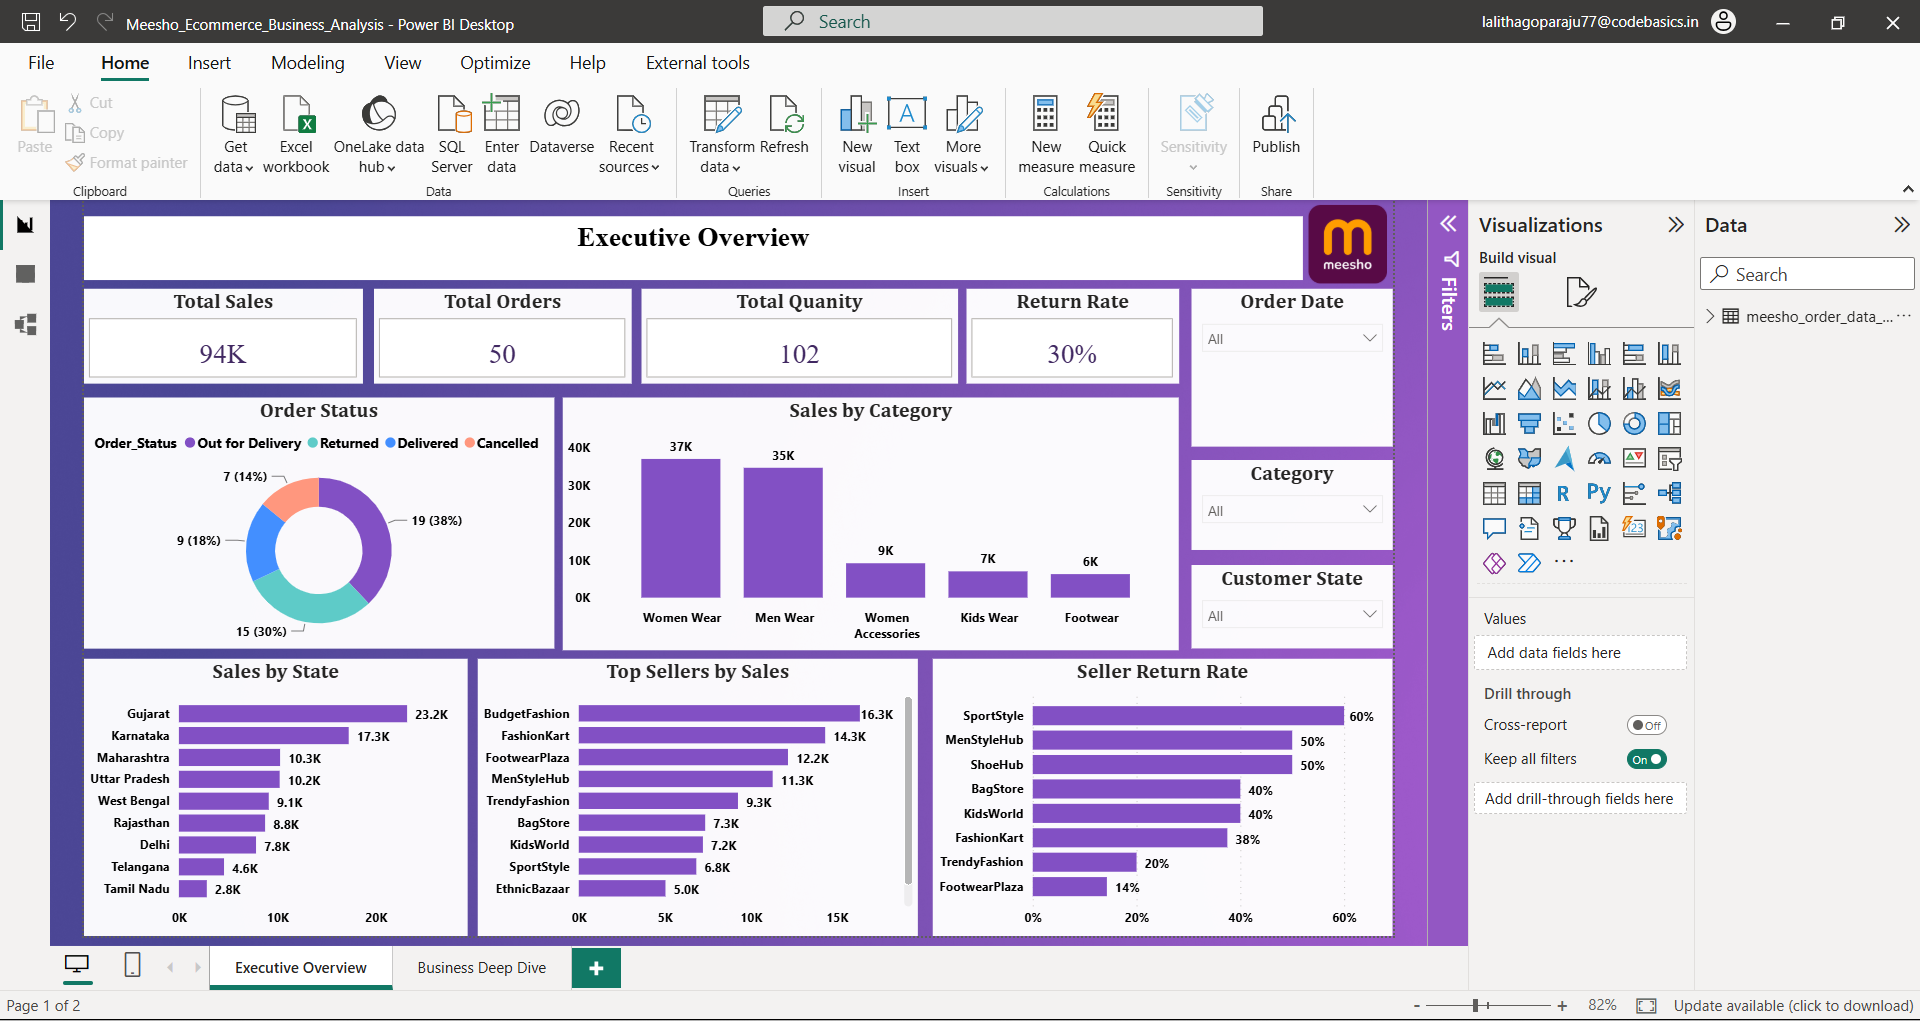

What the dashboard file says about the page in this screenshot:
{"tool":"powerbi","page":{"name":"Executive Overview","canvas":[1280,720],"ordinal":0},"visuals":[{"type":"image","box":[1191.9,0,88,86.8],"z":0},{"type":"textbox","box":[0,15.9,1191.9,62.3],"z":1000},{"type":"cardVisual","title":"Total Sales","fields":{"Data":["Sum(meesho_order_data_2025_50rows.Sales_Value)"]},"box":[0,86.8,272.6,92.9],"z":2000},{"type":"cardVisual","title":"Total Orders","fields":{"Data":["meesho_order_data_2025_50rows.Total Orders"]},"box":[283.6,86.8,251.8,92.9],"z":3000},{"type":"cardVisual","title":"Total Quanity","fields":{"Data":["Sum(meesho_order_data_2025_50rows.Quantity)"]},"box":[545.2,86.8,309.3,92.9],"z":4000},{"type":"cardVisual","title":"Return Rate","fields":{"Data":["meesho_order_data_2025_50rows.Return Rate"]},"box":[863,86.8,207.8,92.9],"z":5000},{"type":"donutChart","title":"Order Status","fields":{"Category":["meesho_order_data_2025_50rows.Order_Status"],"Y":["CountNonNull(meesho_order_data_2025_50rows.Order_Status)"]},"box":[0,193.1,459.6,245.7],"z":6000},{"type":"clusteredColumnChart","title":"Sales by Category","fields":{"Category":["meesho_order_data_2025_50rows.Category"],"Y":["Sum(meesho_order_data_2025_50rows.Sales_Value)"]},"box":[468.2,193.1,602.6,246.9],"z":7000},{"type":"clusteredBarChart","title":"Sales by State","fields":{"Category":["meesho_order_data_2025_50rows.Customer_State"],"Y":["Sum(meesho_order_data_2025_50rows.Sales_Value)"]},"box":[0,448.6,375.3,271.4],"z":8000},{"type":"clusteredBarChart","title":"Top Sellers by Sales","fields":{"Category":["meesho_order_data_2025_50rows.Seller_Name"],"Y":["Sum(meesho_order_data_2025_50rows.Sales_Value)"]},"box":[385.1,448.6,430.3,271.4],"z":9000},{"type":"clusteredBarChart","title":"Seller Return Rate","fields":{"Category":["meesho_order_data_2025_50rows.Seller_Name"],"Y":["meesho_order_data_2025_50rows.Return Rate"]},"box":[830,448.6,449.8,271.4],"z":10000},{"type":"slicer","title":"Order Date","fields":{"Values":["meesho_order_data_2025_50rows.Order_Date"]},"box":[1083.1,86.8,196.8,154],"z":11000},{"type":"slicer","title":"Category","fields":{"Values":["meesho_order_data_2025_50rows.Category"]},"box":[1083.1,254.3,196.8,88],"z":12000},{"type":"slicer","title":"Customer State","fields":{"Values":["meesho_order_data_2025_50rows.Customer_State"]},"box":[1083.1,356.9,196.8,81.9],"z":13000}]}

Visuals, with their boxes on the page's 1280x720 design canvas (x1, y1, x2, y2). These are canvas units, not pixel positions in the 1920x1021 screenshot, which may show the page scaled, cropped or inside an application window:
image: crop(1192, 0, 1280, 87)
textbox: crop(0, 16, 1192, 78)
"Total Sales" cardVisual: crop(0, 87, 273, 180)
"Total Orders" cardVisual: crop(284, 87, 535, 180)
"Total Quanity" cardVisual: crop(545, 87, 854, 180)
"Return Rate" cardVisual: crop(863, 87, 1071, 180)
"Order Status" donutChart: crop(0, 193, 460, 439)
"Sales by Category" clusteredColumnChart: crop(468, 193, 1071, 440)
"Sales by State" clusteredBarChart: crop(0, 449, 375, 720)
"Top Sellers by Sales" clusteredBarChart: crop(385, 449, 815, 720)
"Seller Return Rate" clusteredBarChart: crop(830, 449, 1280, 720)
"Order Date" slicer: crop(1083, 87, 1280, 241)
"Category" slicer: crop(1083, 254, 1280, 342)
"Customer State" slicer: crop(1083, 357, 1280, 439)
